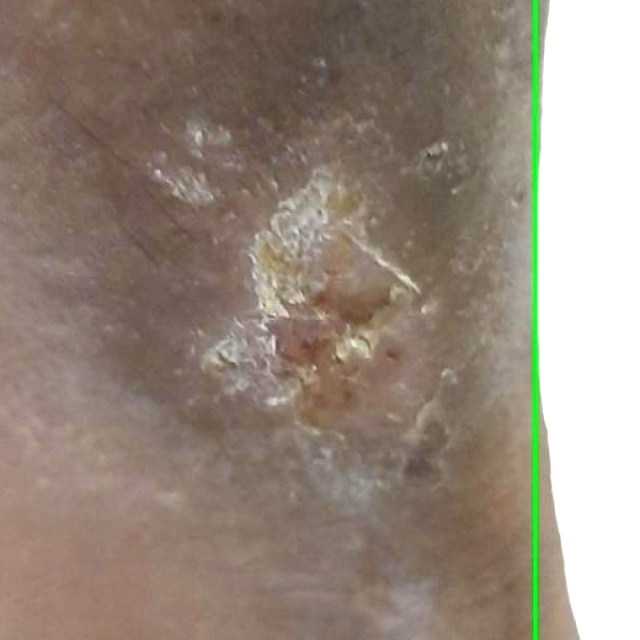Eczema: (535, 0, 639, 639)
